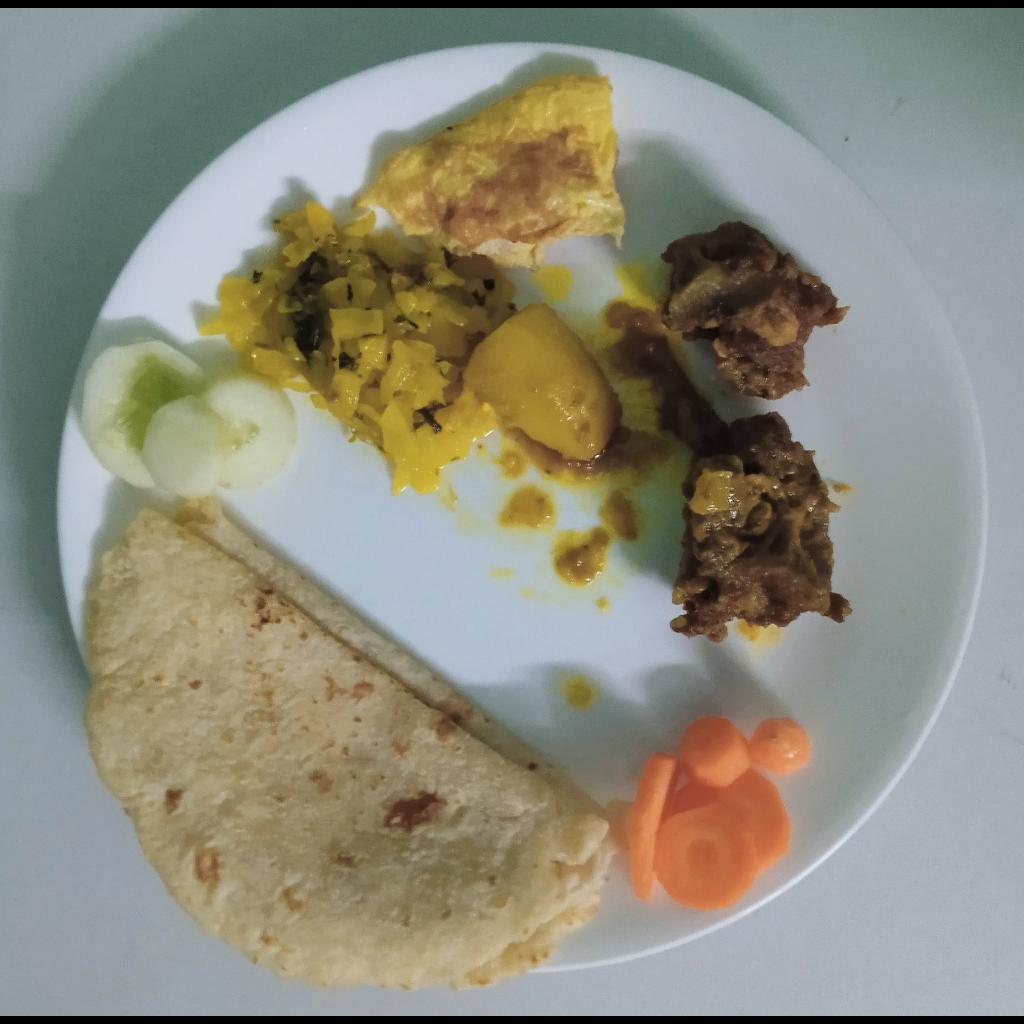beef: (670, 413, 854, 641), (662, 221, 849, 399)
carrot: (624, 716, 812, 916)
cucumber: (82, 339, 296, 497)
egg-poached: (352, 72, 626, 270)
ruti: (87, 500, 626, 991)
vegetable: (200, 201, 618, 496)
